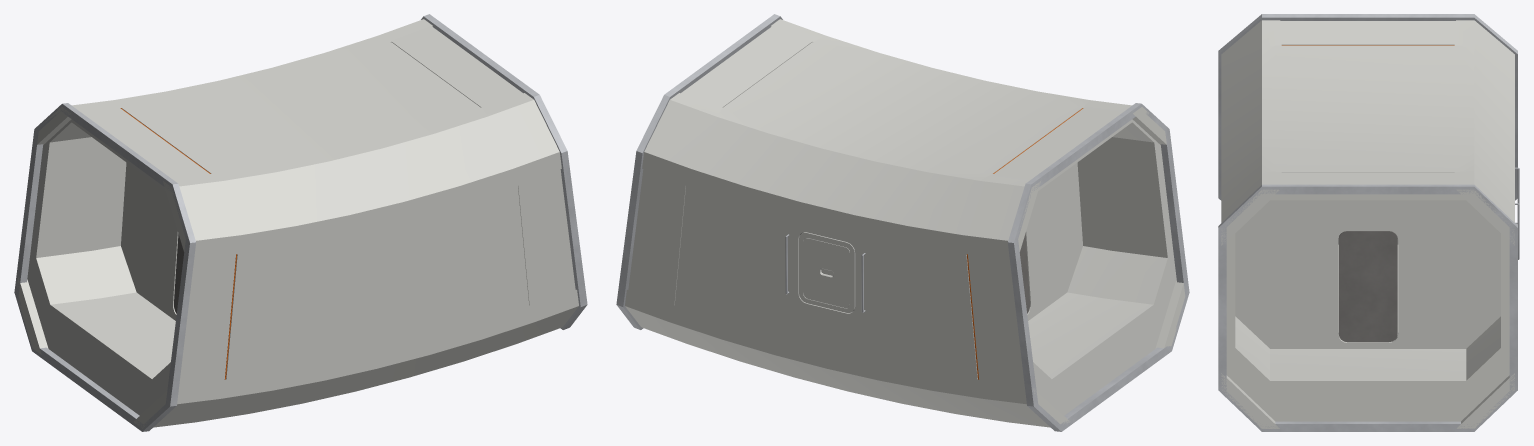
Rendered from ax_grav_09_ring_bulkhead_airlock.glb.
3 renders of one model, left to right at view 1: azimuth 30°, elevation 25°; view 2: azimuth 150°, elevation 25°; view 3: azimuth 270°, elevation 25°, orthographic. The views are drawn at different scales.
Visible parts, largest first — view 1: hull, end_flanges, bulkhead_2; view 2: hull, end_flanges, bulkhead_2, hatch_door_1; view 3: hull, bulkhead_1, end_flanges, door_1.
Boxes of the visible parts, <box> form: hull: <box>17,19,578,428</box>; end_flanges: <box>14,14,587,431</box>; bulkhead_2: <box>121,162,178,320</box>; hull: <box>625,19,1185,427</box>; end_flanges: <box>616,14,1189,431</box>; bulkhead_2: <box>1025,162,1082,320</box>; hatch_door_1: <box>799,232,855,312</box>; hull: <box>1221,20,1514,428</box>; bulkhead_1: <box>1235,200,1500,348</box>; end_flanges: <box>1218,14,1517,431</box>; door_1: <box>1338,231,1397,342</box>.
Bounding box in the file's own units: 7.52 × 4.23 × 4.77.
Materials: 4 (2 with a texture image).
